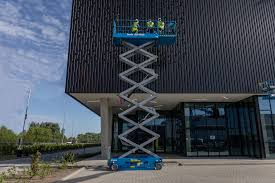Scissor Lift: (107, 15, 179, 172)
